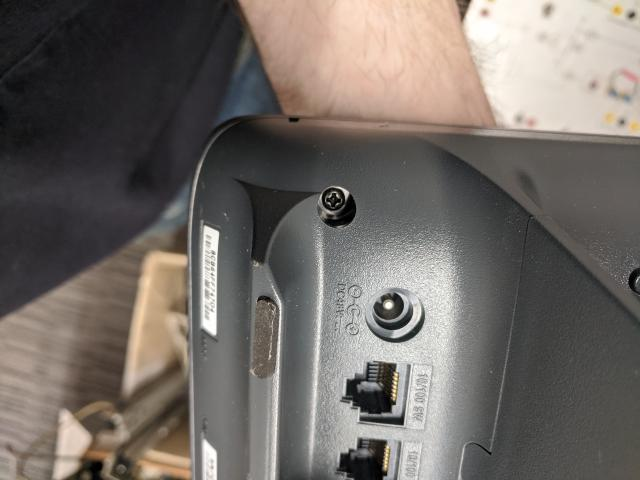CRS: (319, 184, 345, 214)
